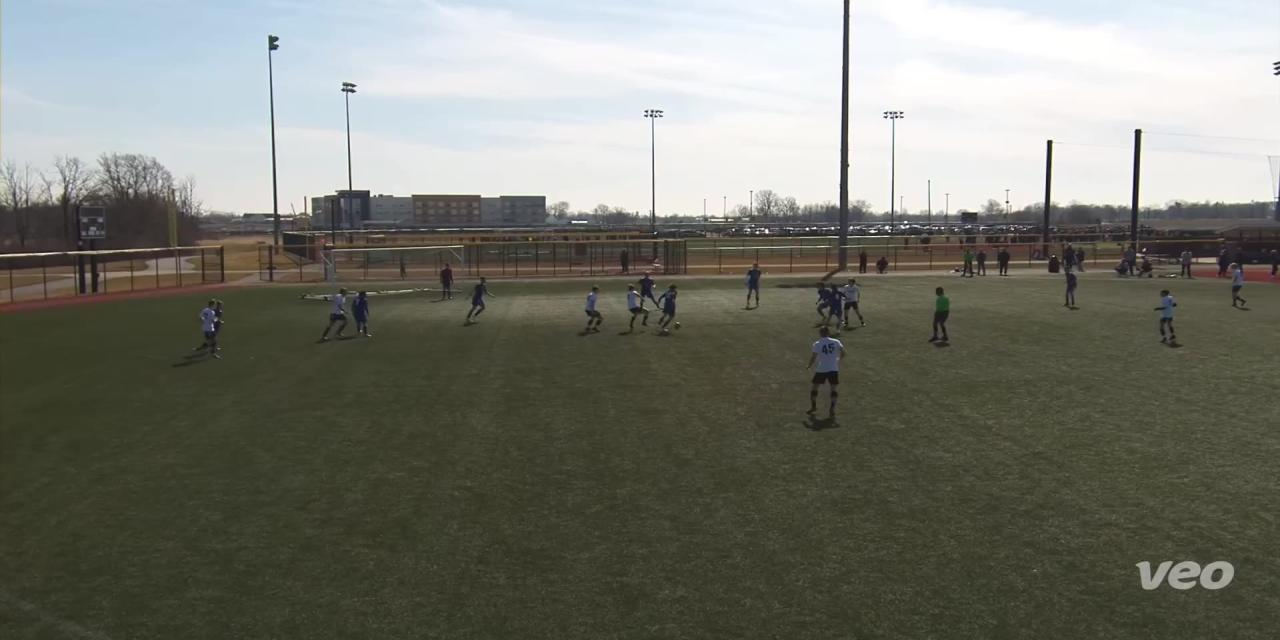goal: (302, 241, 478, 304)
sports ball: (669, 316, 688, 334)
